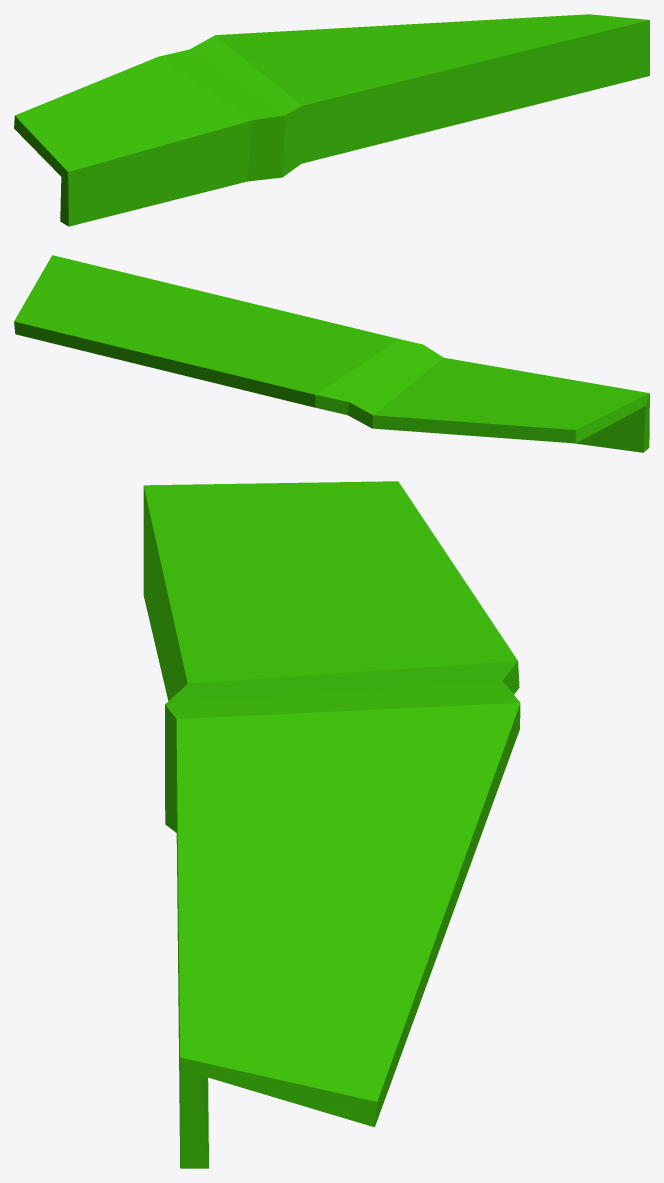
The model's file is green5.obj.
The picture shows the model from 3 angles, top to bottom: view 1: azimuth 30°, elevation 25°; view 2: azimuth 150°, elevation 25°; view 3: azimuth 270°, elevation 25°; orthographic projection. The views are drawn at different scales.
Parts seen in each view (by area): view 1: plate2.010; view 2: plate2.010; view 3: plate2.010.
Boxes of the visible parts, left/top/right/bottom form: plate2.010: left=14, top=14, right=649, bottom=226; plate2.010: left=14, top=255, right=649, bottom=452; plate2.010: left=143, top=481, right=520, bottom=1168.
Size of the model in its own units: 4.24 by 0.5034 by 1.17.
